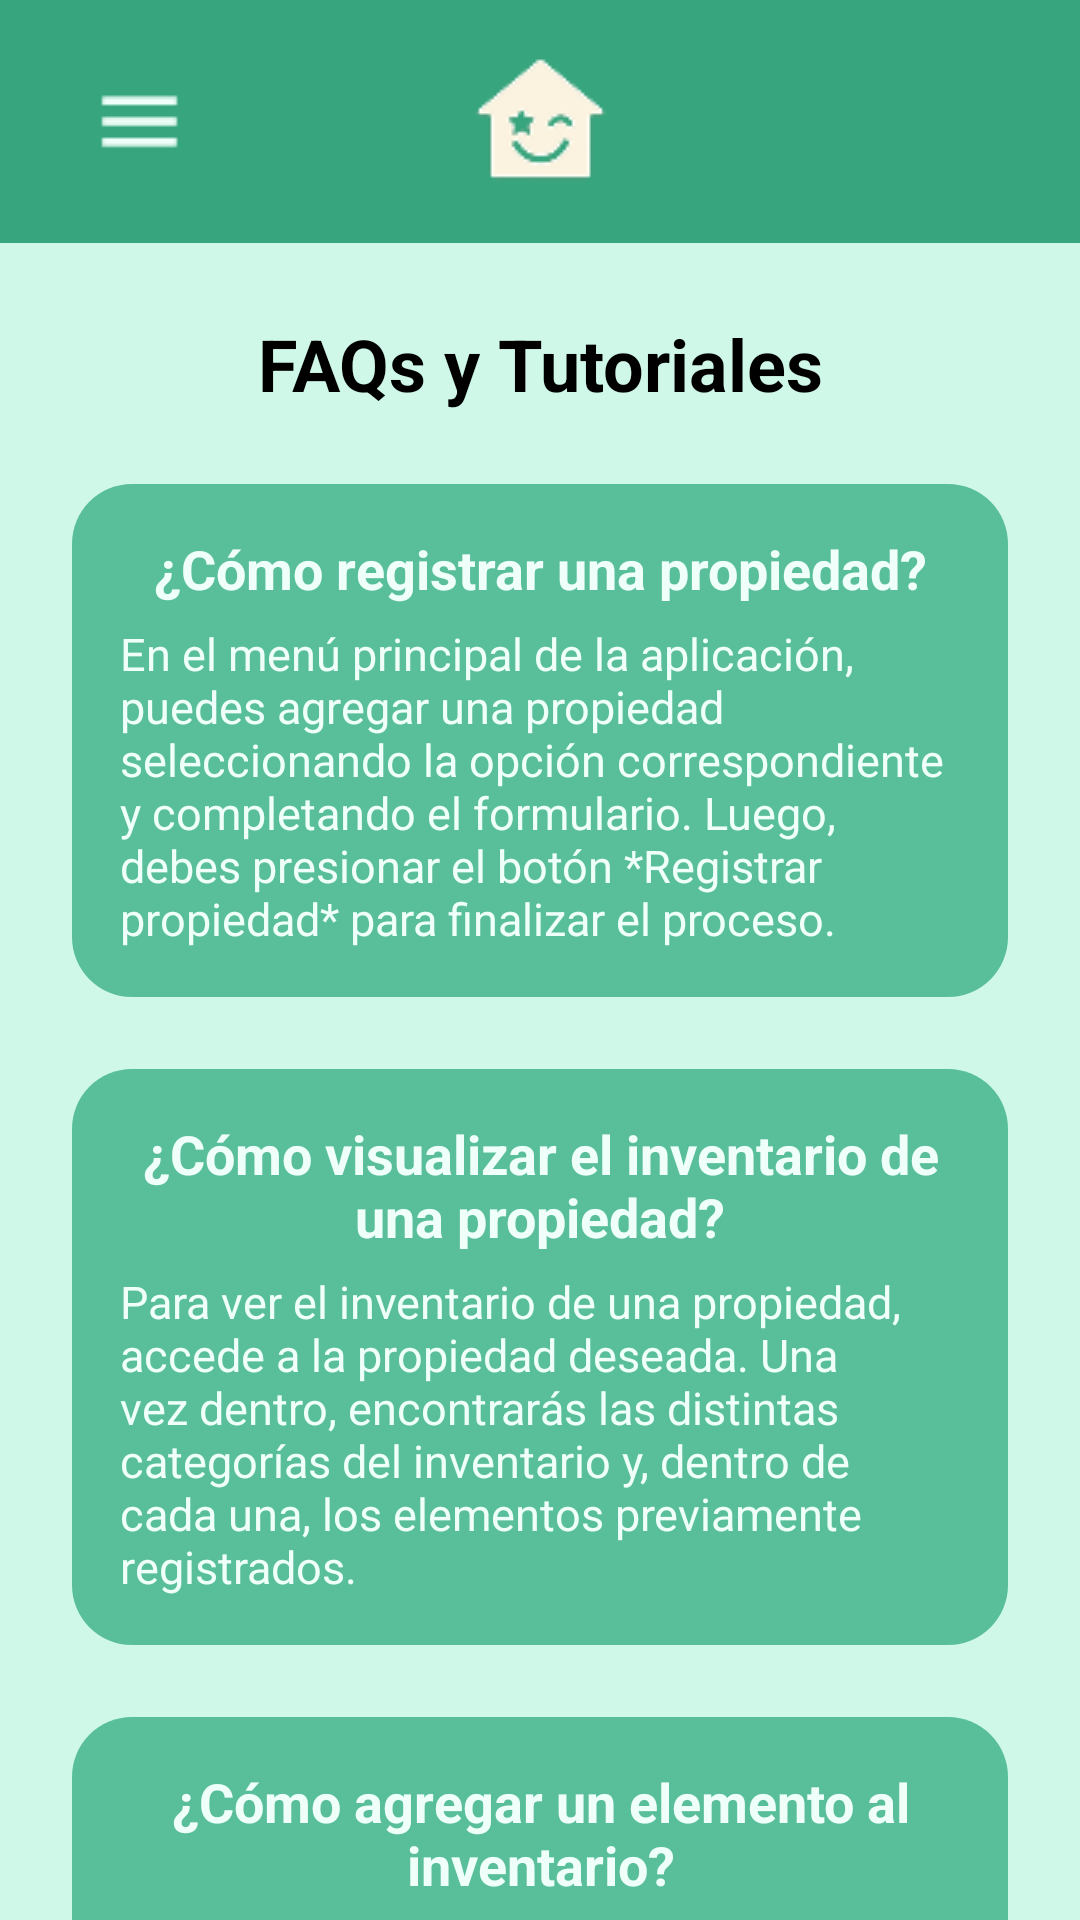

Locate icon controls on the screen. Image size 1080 x 1920, boxes as (x1, y1, x2, y2).
hamburguesa: (101, 95, 178, 148)
